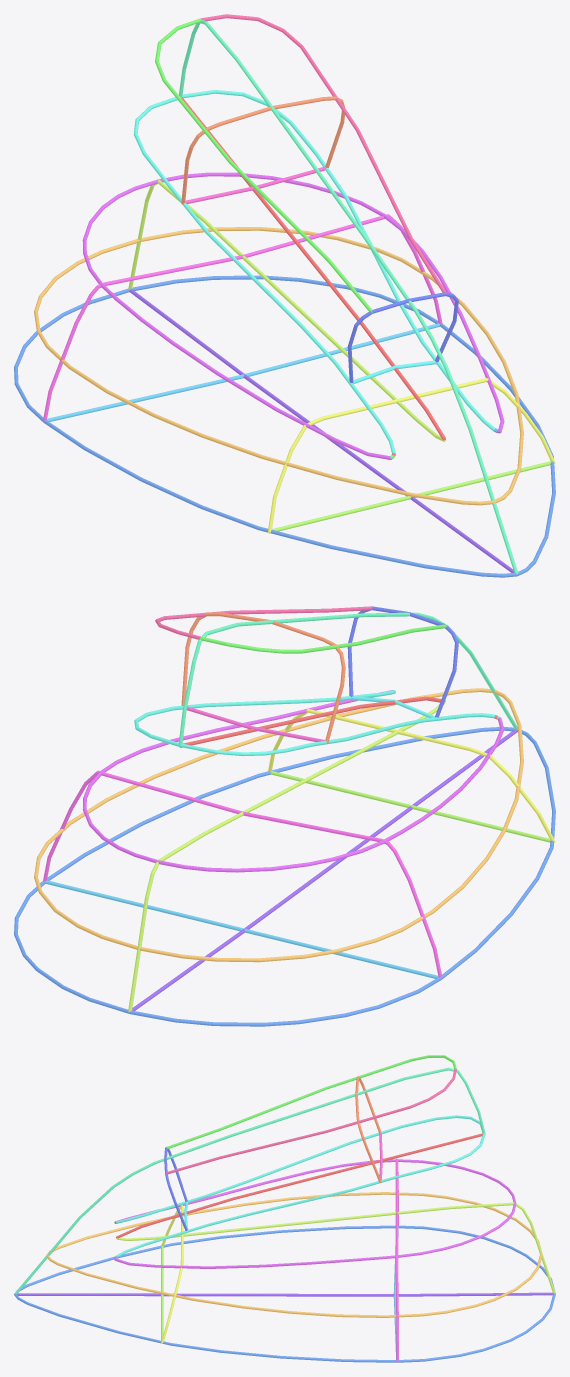
The model's file is t2f_iron.gltf.
3 views of the same model, one above another, from view 1: azimuth 30°, elevation 25°; view 2: azimuth 150°, elevation 25°; view 3: azimuth 270°, elevation 25° (orthographic). The views are drawn at different scales.
Bounding box in the file's own units: 0.4763 × 0.3743 × 0.8038.
